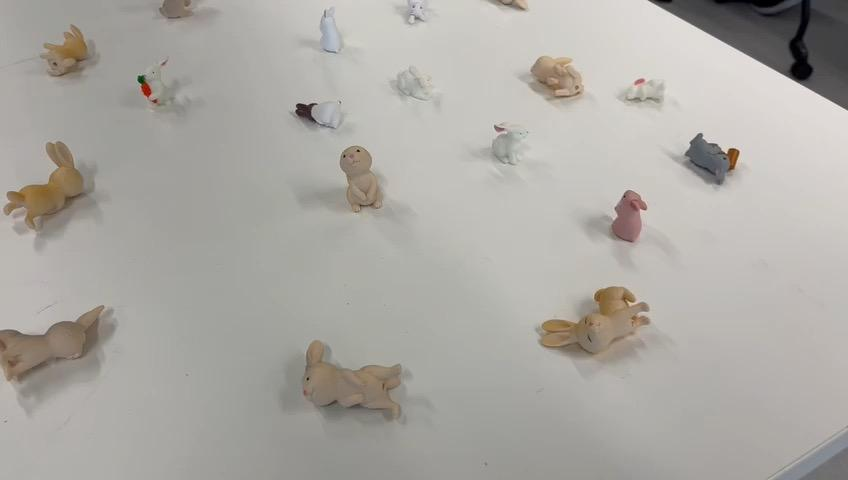pet: (528, 280, 663, 363), (288, 330, 410, 421), (0, 293, 118, 387), (1, 134, 95, 237), (333, 132, 389, 224), (127, 58, 206, 120), (29, 16, 102, 80), (679, 124, 748, 191), (528, 47, 592, 103), (482, 108, 537, 168), (392, 57, 445, 111), (619, 71, 691, 110), (611, 181, 651, 246), (282, 91, 346, 130), (317, 0, 353, 61)
